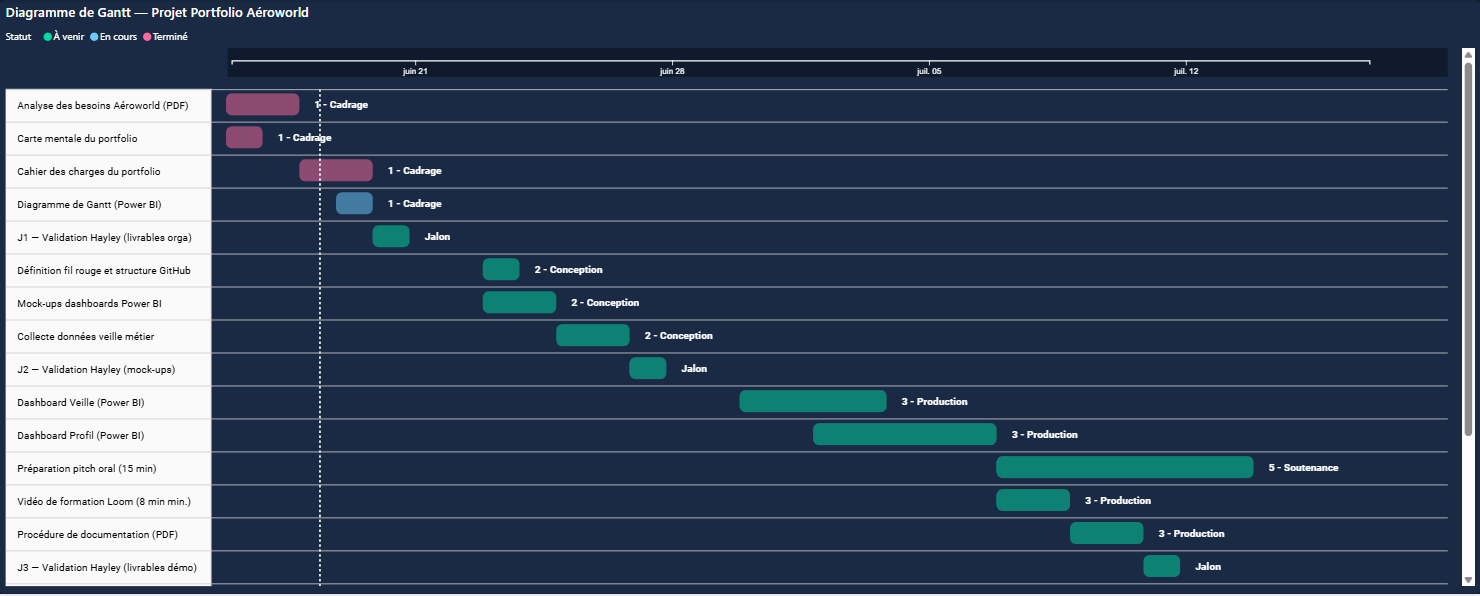

What the dashboard file says about the page in this screenshot:
{"tool":"powerbi","page":{"name":"Diagramme de Gantt","canvas":[1800,720],"ordinal":2},"visuals":[{"type":"Gantt1448688115699","title":"Diagramme de Gantt — Projet Portfolio Aéroworld","fields":{"StartDate":["Taches_Gantt.Date_Debut"],"EndDate":["Min(Taches_Gantt.Date_Fin)"],"Task":["Taches_Gantt.Livrable"],"Resource":["Taches_Gantt.Phase"],"Legend":["Taches_Gantt.Statut"]},"box":[0,0,1800,720.5],"z":0}]}

Visuals, with their boxes in screenshot pixels (x1, y1, x2, y2), scaled from the page's 1800x720 canvas onto the 1480x596 screenshot:
"Diagramme de Gantt — Projet Portfolio Aéroworld" Gantt1448688115699: bbox(0, 0, 1479, 595)
